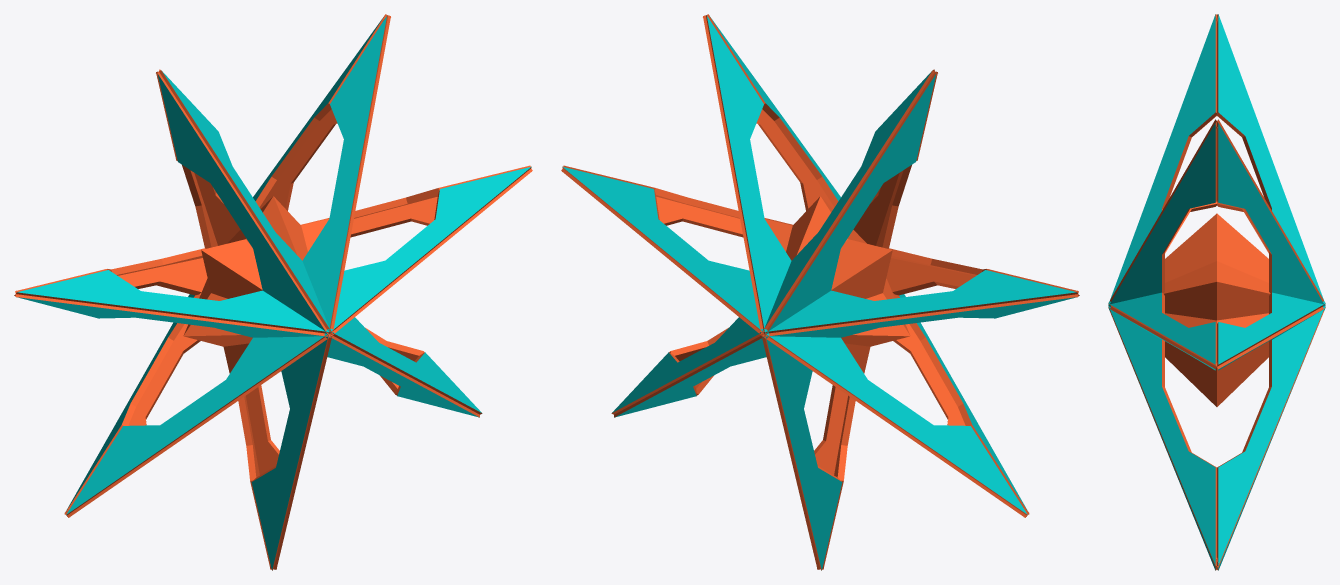
The model's file is HeptagrammicDipyramidS.glb.
3 views of the same model, side by side, from view 1: azimuth 30°, elevation 25°; view 2: azimuth 150°, elevation 25°; view 3: azimuth 270°, elevation 25° (orthographic). The views are drawn at different scales.
Parts seen in each view (by area): view 1: Mesh_1.002, Mesh_0.012; view 2: Mesh_1.002, Mesh_0.012; view 3: Mesh_1.002, Mesh_0.012.
Boxes of the visible parts, x1,y1,x2,y2 form: Mesh_1.002: (14, 14, 532, 570); Mesh_0.012: (183, 196, 328, 373); Mesh_1.002: (561, 14, 1079, 570); Mesh_0.012: (765, 196, 910, 373); Mesh_1.002: (1108, 14, 1325, 570); Mesh_0.012: (1163, 213, 1270, 406).
Bounding box in the file's own units: 4.6 × 4.48 × 1.76.
